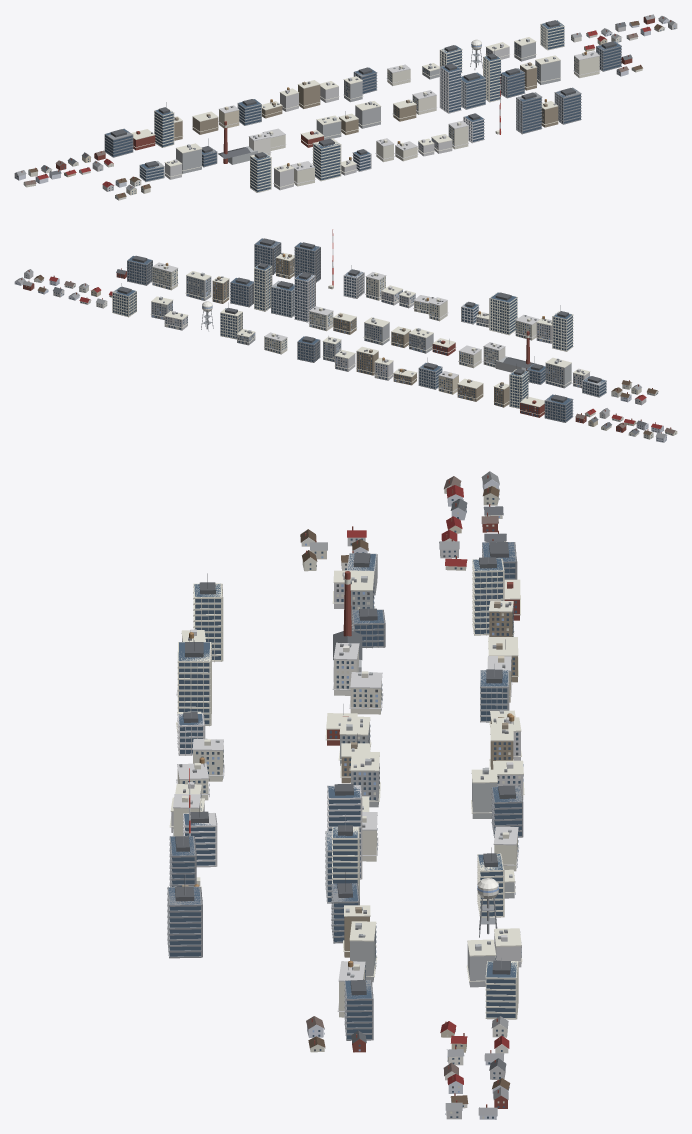
The model's file is WardTownFar.obj.
The picture shows the model from 3 angles, top to bottom: view 1: azimuth 30°, elevation 25°; view 2: azimuth 150°, elevation 25°; view 3: azimuth 270°, elevation 25°; orthographic projection. The views are drawn at different scales.
Parts seen in each view (by area): view 1: WardTownFar; view 2: WardTownFar; view 3: WardTownFar.
Boxes of the visible parts, x1,y1,x2,y2 form: WardTownFar: (14, 14, 677, 200); WardTownFar: (14, 229, 677, 442); WardTownFar: (167, 471, 524, 1119).
Bounding box in the file's own units: 857 × 72.63 × 203.
1 material, 1 textured.
